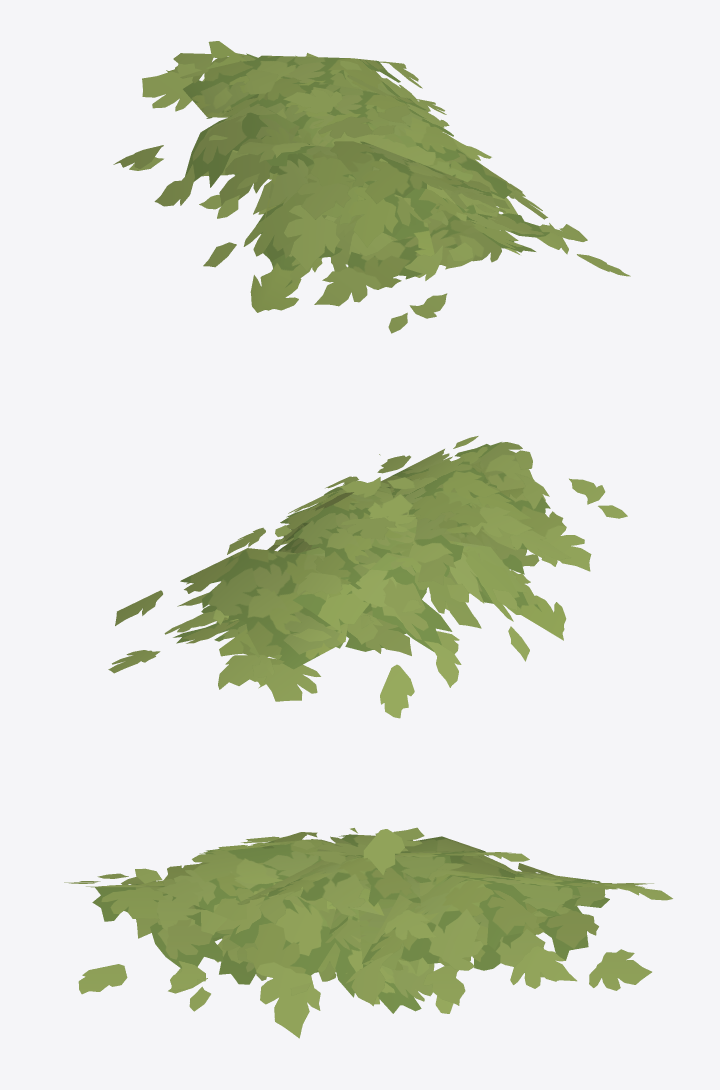
File: SM_Env_Vine_15.fbx
3 views of the same model, one above another, from view 1: azimuth 30°, elevation 25°; view 2: azimuth 150°, elevation 25°; view 3: azimuth 270°, elevation 25° (orthographic). The views are drawn at different scales.
Parts seen in each view (by area): view 1: SM_Env_Vine_15; view 2: SM_Env_Vine_15; view 3: SM_Env_Vine_15.
Part boxes in pixels (x1,y1,x2,y2): SM_Env_Vine_15: (113, 41, 630, 333); SM_Env_Vine_15: (108, 436, 627, 718); SM_Env_Vine_15: (64, 827, 672, 1038).
Size of the model in its own units: 212 by 90.87 by 312.
